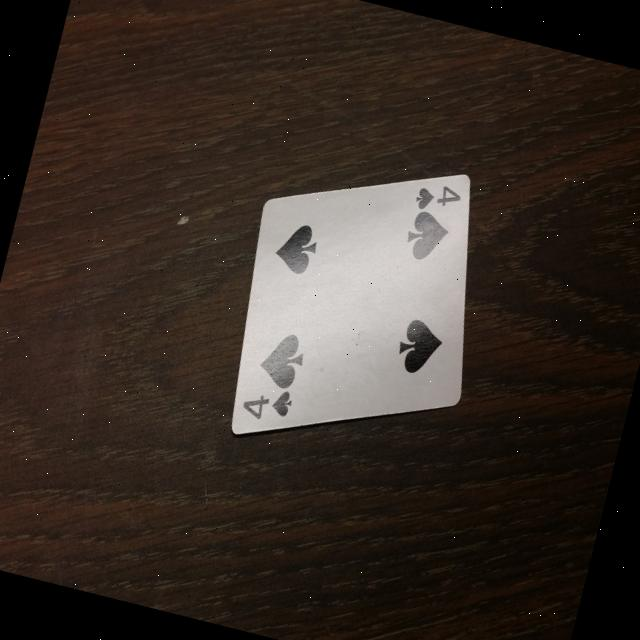4s: (234, 378, 301, 444), (404, 163, 470, 224)
